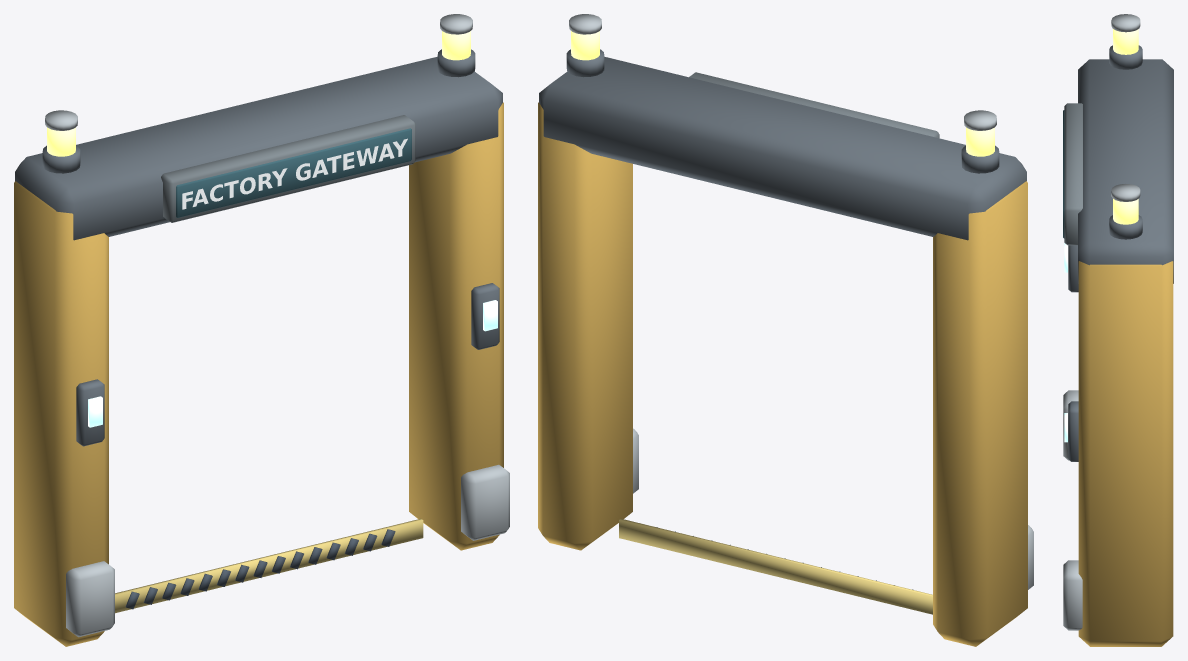
File: factory_gateway_standard.glb
3 renders of one model, left to right at view 1: azimuth 30°, elevation 25°; view 2: azimuth 150°, elevation 25°; view 3: azimuth 270°, elevation 25°, orthographic. The views are drawn at different scales.
Parts seen in each view (by area): view 1: Pillar_orange_legacy_0, Header_dark_legacy_4, Footing_steel_legacy_11, SignPlate_glass, ScreenMount_frame, Detail_yellow_legacy_9, AccessPanel_dark_legacy_12, Detail_black_legacy_10, TypeLabel_white, StatusLight_warn_legacy_2, Beacon_dark_legacy_1, Beacon_steel_legacy_3 (+1 smaller); view 2: Pillar_orange_legacy_0, Header_dark_legacy_4, Detail_yellow_legacy_9, ScreenMount_frame, StatusLight_warn_legacy_2, Beacon_dark_legacy_1, Beacon_steel_legacy_3, Footing_steel_legacy_11; view 3: Pillar_orange_legacy_0, Header_dark_legacy_4, ScreenMount_frame, Footing_steel_legacy_11, StatusLight_warn_legacy_2, Beacon_dark_legacy_1, AccessPanel_dark_legacy_12, Beacon_steel_legacy_3, SignPlate_glass, StatusLight_glow_legacy_13.
Boxes of the visible parts, x1=… form: Pillar_orange_legacy_0: x1=14, y1=102, x2=503, y2=646; Header_dark_legacy_4: x1=15, y1=56, x2=502, y2=240; Footing_steel_legacy_11: x1=66, y1=464, x2=509, y2=637; SignPlate_glass: x1=176, y1=128, x2=411, y2=217; ScreenMount_frame: x1=161, y1=115, x2=415, y2=222; Detail_yellow_legacy_9: x1=115, y1=518, x2=423, y2=613; AccessPanel_dark_legacy_12: x1=76, y1=283, x2=499, y2=446; Detail_black_legacy_10: x1=125, y1=529, x2=395, y2=609; TypeLabel_white: x1=182, y1=138, x2=407, y2=209; StatusLight_warn_legacy_2: x1=47, y1=31, x2=470, y2=156; Beacon_dark_legacy_1: x1=42, y1=49, x2=475, y2=173; Beacon_steel_legacy_3: x1=45, y1=14, x2=472, y2=130; Pillar_orange_legacy_0: x1=538, y1=102, x2=1027, y2=646; Header_dark_legacy_4: x1=539, y1=56, x2=1026, y2=240; Detail_yellow_legacy_9: x1=619, y1=518, x2=932, y2=614; ScreenMount_frame: x1=689, y1=72, x2=939, y2=138; StatusLight_warn_legacy_2: x1=571, y1=31, x2=994, y2=156; Beacon_dark_legacy_1: x1=566, y1=49, x2=999, y2=173; Beacon_steel_legacy_3: x1=569, y1=14, x2=996, y2=130; Footing_steel_legacy_11: x1=633, y1=428, x2=1033, y2=589; Pillar_orange_legacy_0: x1=1078, y1=261, x2=1173, y2=646; Header_dark_legacy_4: x1=1078, y1=59, x2=1173, y2=283; ScreenMount_frame: x1=1064, y1=103, x2=1082, y2=245; Footing_steel_legacy_11: x1=1063, y1=390, x2=1082, y2=630; StatusLight_warn_legacy_2: x1=1113, y1=29, x2=1138, y2=224; Beacon_dark_legacy_1: x1=1109, y1=45, x2=1142, y2=239; AccessPanel_dark_legacy_12: x1=1068, y1=245, x2=1078, y2=461; Beacon_steel_legacy_3: x1=1111, y1=14, x2=1140, y2=201; SignPlate_glass: x1=1063, y1=110, x2=1064, y2=238; StatusLight_glow_legacy_13: x1=1064, y1=243, x2=1067, y2=442.
Size of the model in its own units: 3.14 by 3.41 by 0.769.
